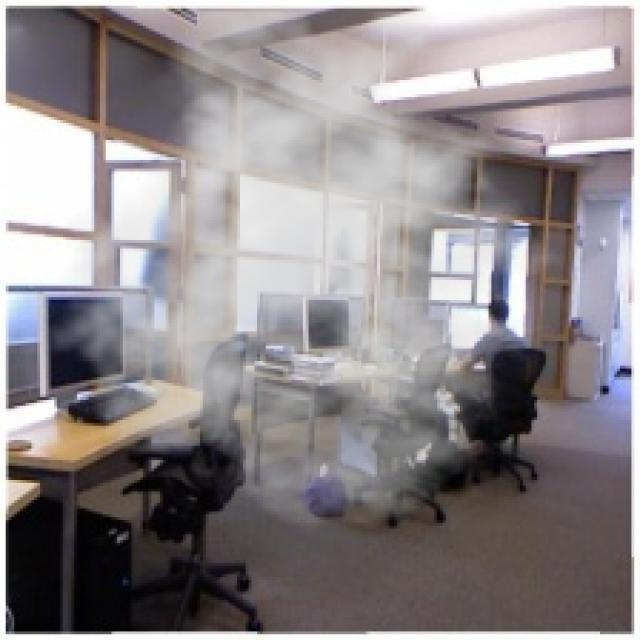Smoke: (43, 11, 586, 528)
